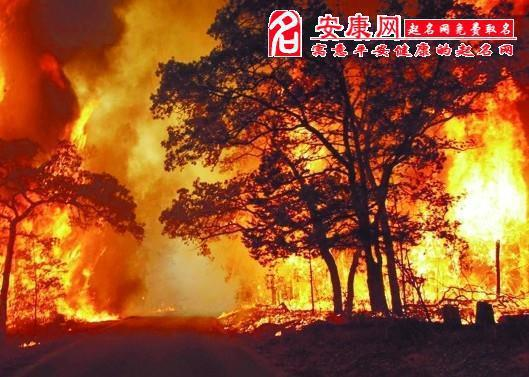fire: (437, 77, 527, 307), (25, 184, 123, 327), (247, 244, 438, 312), (274, 115, 342, 170)
